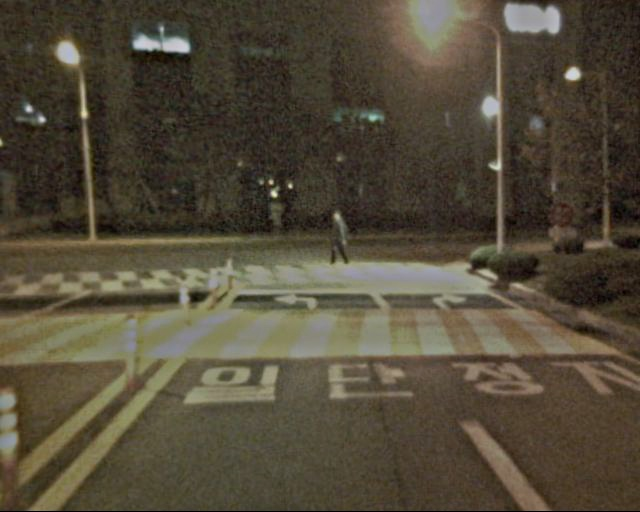person: (327, 209, 354, 275)
